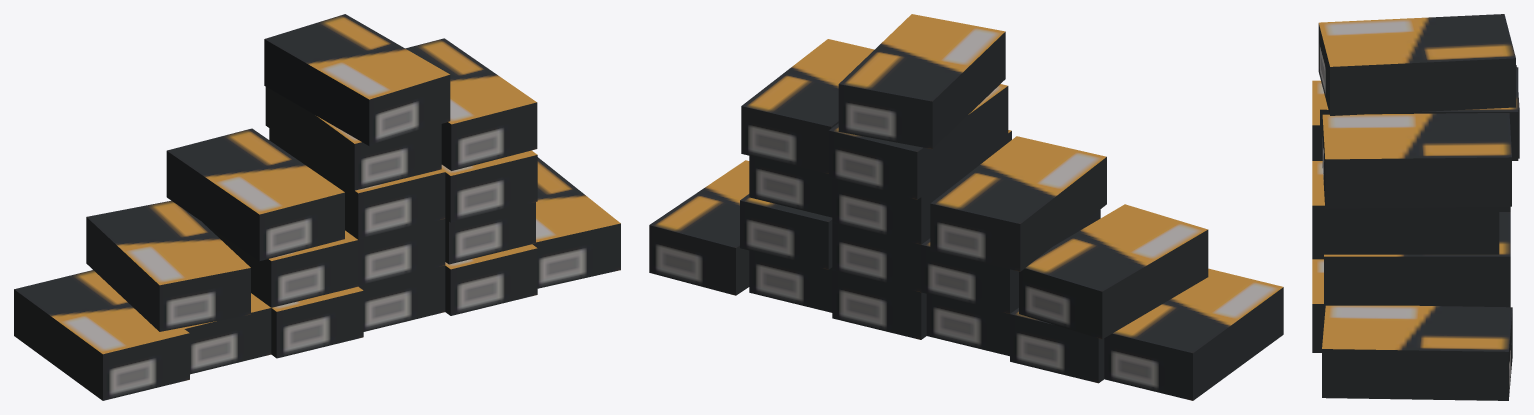
The model's file is SM_Prop_Hunting_Ammo_Pile_03.obj.
3 renders of one model, left to right at view 1: azimuth 30°, elevation 25°; view 2: azimuth 150°, elevation 25°; view 3: azimuth 270°, elevation 25°, orthographic. The views are drawn at different scales.
Parts seen in each view (by area): view 1: SM_Prop_Hunting_Ammo_Pile_03_0; view 2: SM_Prop_Hunting_Ammo_Pile_03_0; view 3: SM_Prop_Hunting_Ammo_Pile_03_0.
Boxes of the visible parts, x1,y1,x2,y2 form: SM_Prop_Hunting_Ammo_Pile_03_0: (14,14,620,400); SM_Prop_Hunting_Ammo_Pile_03_0: (649,14,1283,400); SM_Prop_Hunting_Ammo_Pile_03_0: (1312,14,1519,400).
Bounding box in the file's own units: 0.7515 × 0.3173 × 0.2427.
Materials: 1 (1 with a texture image).
